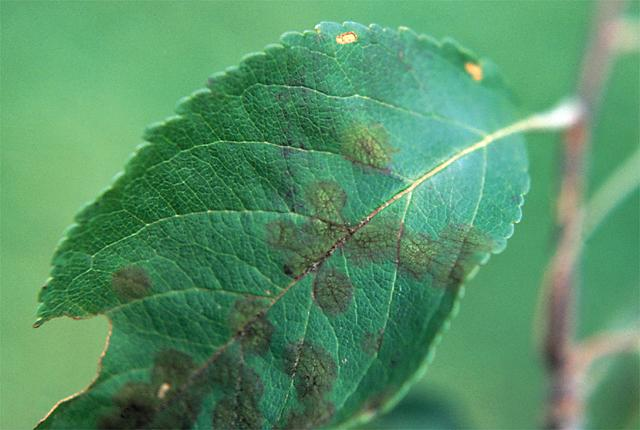Apple Scab Leaf: (20, 8, 541, 430)
